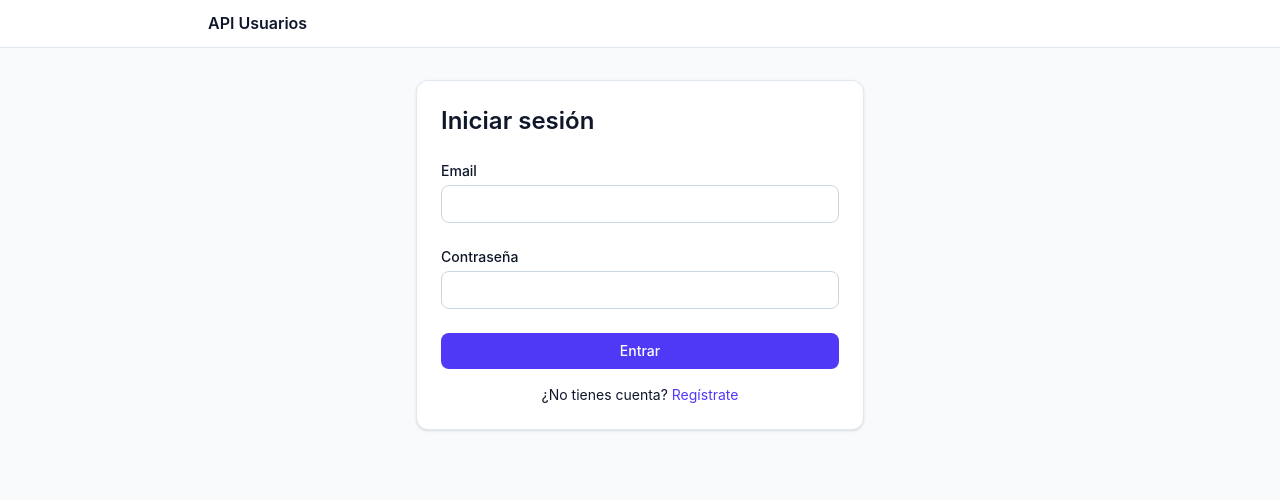
Test: Login › muestra el error del servidor ante un 401
In the field labelled "Email": (640, 204) [441, 185, 839, 223], type "ana@example.com"
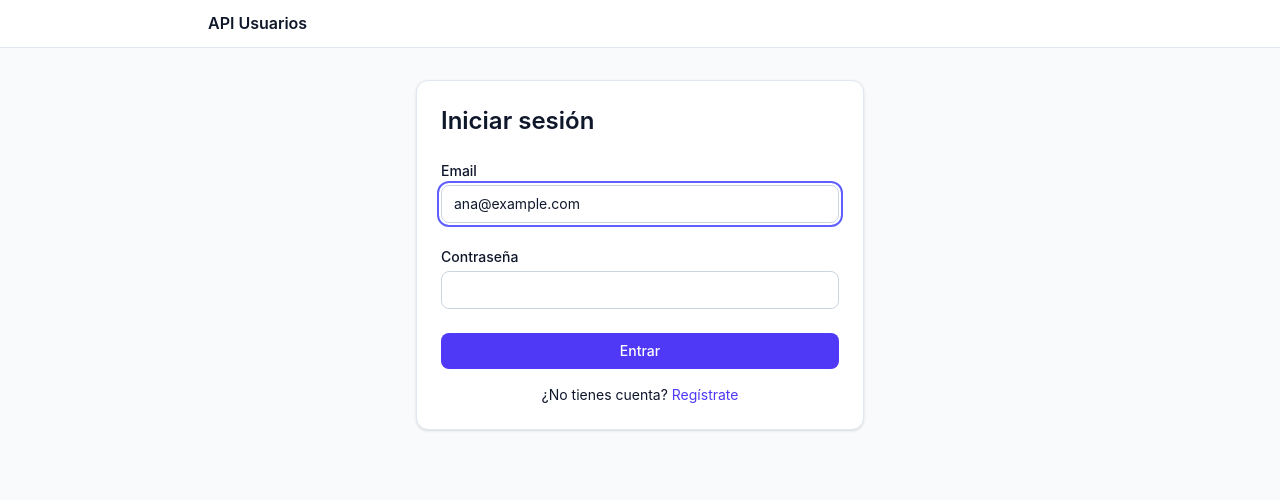
In the password field labelled "Contraseña": (640, 290) [441, 271, 839, 309], type "Password1"
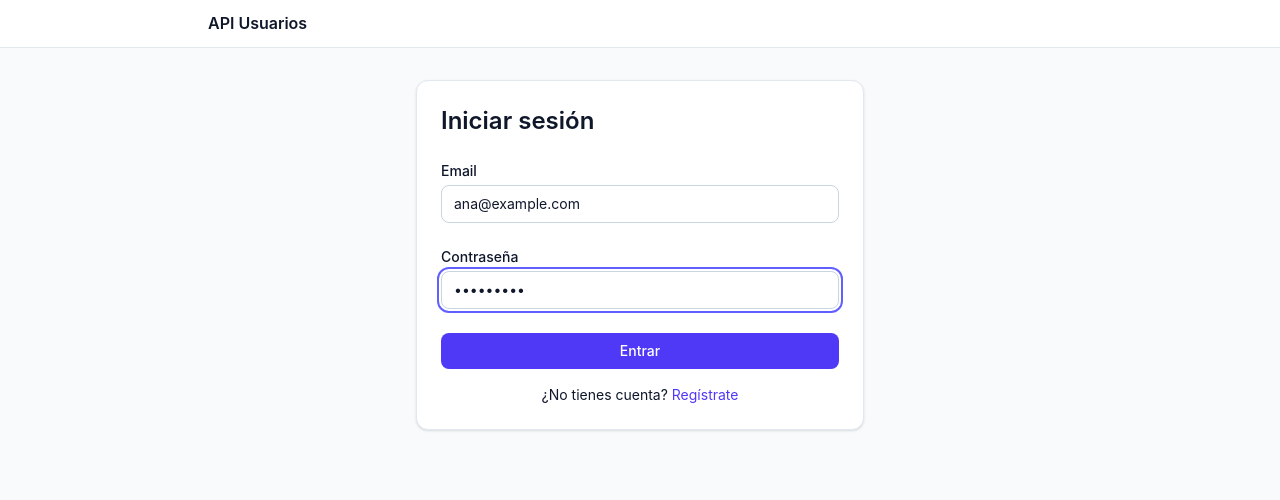
Click the button "Entrar": (640, 351) [441, 333, 839, 369]
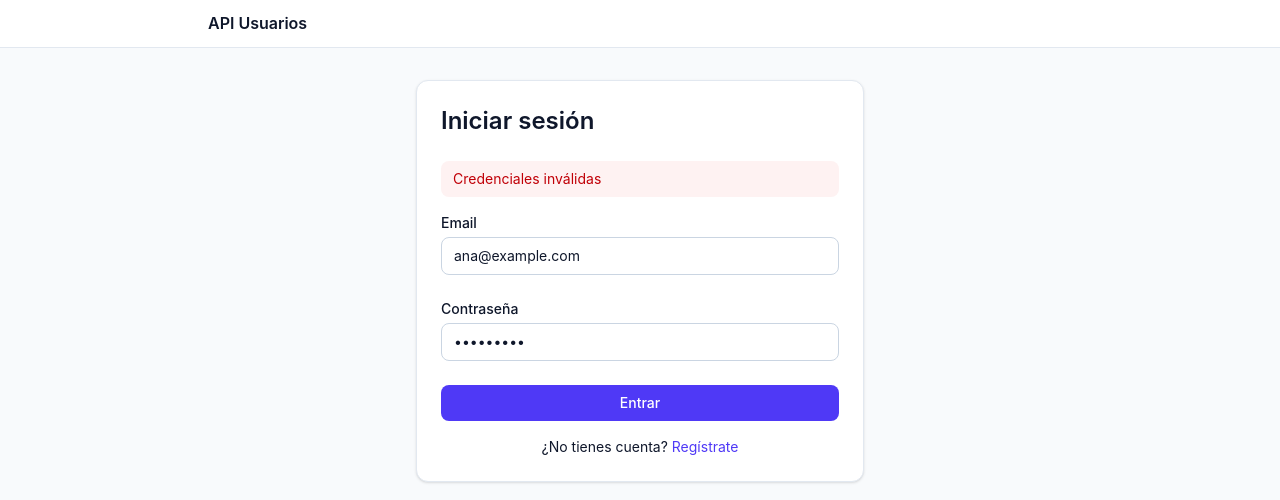
expect the message reads "Credenciales inválidas": met, box [453, 170, 601, 187]
